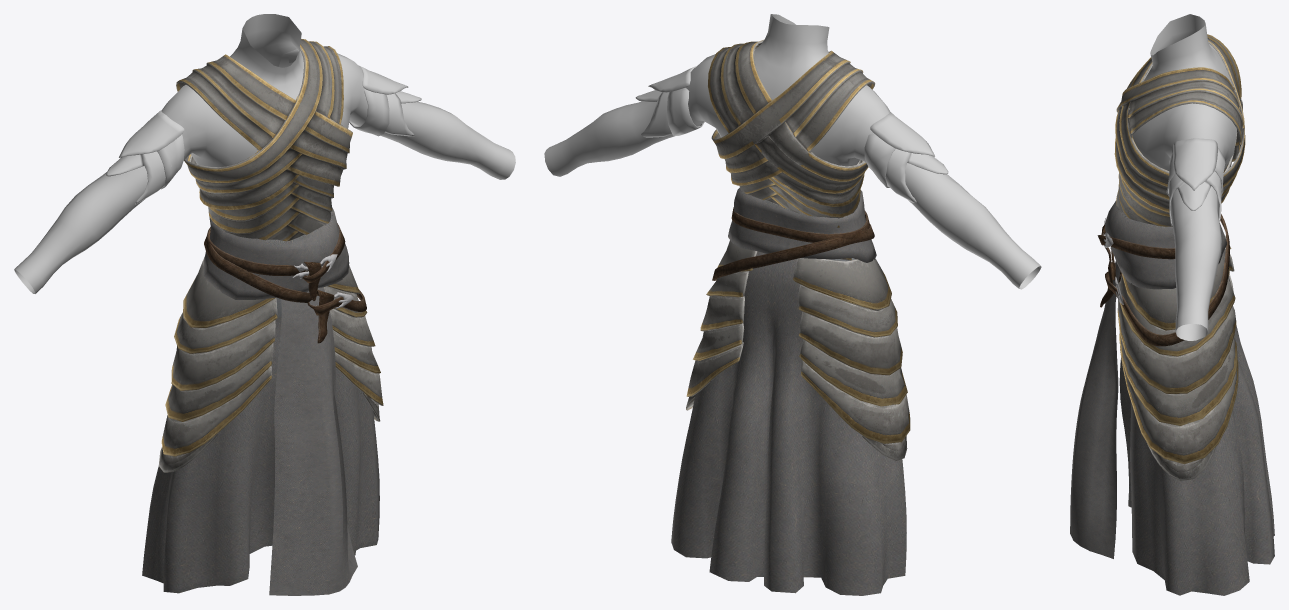
Rendered from rivendell_torso_infantry_tier3_silvergold.fbx.
3 views of the same model, side by side, from view 1: azimuth 30°, elevation 25°; view 2: azimuth 150°, elevation 25°; view 3: azimuth 270°, elevation 25° (orthographic). The views are drawn at different scales.
Visible parts, largest first — view 1: rivendell_torso_infantry_tier3_silvergold.3, rivendell_torso_infantry_tier3_silvergold.0, rivendell_torso_infantry_tier3_silvergold.1, rivendell_torso_infantry_tier3_silvergold.4, rivendell_torso_infantry_tier3_silvergold.2, rivendell_torso_infantry_tier3_silvergold.5; view 2: rivendell_torso_infantry_tier3_silvergold.0, rivendell_torso_infantry_tier3_silvergold.2, rivendell_torso_infantry_tier3_silvergold.4, rivendell_torso_infantry_tier3_silvergold.1, rivendell_torso_infantry_tier3_silvergold.3, rivendell_torso_infantry_tier3_silvergold.5; view 3: rivendell_torso_infantry_tier3_silvergold.0, rivendell_torso_infantry_tier3_silvergold.2, rivendell_torso_infantry_tier3_silvergold.3, rivendell_torso_infantry_tier3_silvergold.4, rivendell_torso_infantry_tier3_silvergold.1, rivendell_torso_infantry_tier3_silvergold.5.
Boxes of the visible parts, x1,y1,x2,y2 form: rivendell_torso_infantry_tier3_silvergold.3: [203, 207, 366, 595]; rivendell_torso_infantry_tier3_silvergold.0: [142, 297, 379, 593]; rivendell_torso_infantry_tier3_silvergold.1: [176, 38, 352, 275]; rivendell_torso_infantry_tier3_silvergold.4: [14, 14, 515, 293]; rivendell_torso_infantry_tier3_silvergold.2: [158, 257, 383, 472]; rivendell_torso_infantry_tier3_silvergold.5: [106, 65, 421, 204]; rivendell_torso_infantry_tier3_silvergold.0: [671, 251, 906, 595]; rivendell_torso_infantry_tier3_silvergold.2: [686, 240, 910, 460]; rivendell_torso_infantry_tier3_silvergold.4: [544, 14, 1041, 289]; rivendell_torso_infantry_tier3_silvergold.1: [708, 39, 875, 260]; rivendell_torso_infantry_tier3_silvergold.3: [712, 188, 876, 280]; rivendell_torso_infantry_tier3_silvergold.5: [635, 66, 948, 202]; rivendell_torso_infantry_tier3_silvergold.0: [1119, 251, 1274, 595]; rivendell_torso_infantry_tier3_silvergold.2: [1117, 234, 1238, 480]; rivendell_torso_infantry_tier3_silvergold.3: [1070, 200, 1229, 558]; rivendell_torso_infantry_tier3_silvergold.4: [1132, 14, 1236, 340]; rivendell_torso_infantry_tier3_silvergold.1: [1114, 34, 1245, 226]; rivendell_torso_infantry_tier3_silvergold.5: [1166, 138, 1225, 226].
Size of the model in its own units: 1.38 by 0.5129 by 1.46.
